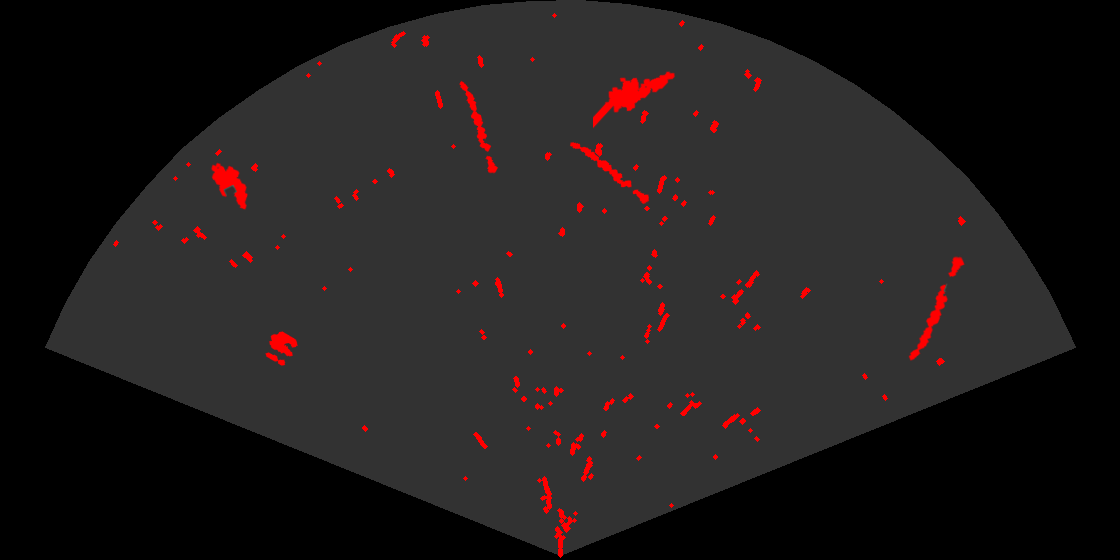AUV: (209, 161, 250, 211)
ball: (264, 330, 299, 367)
chain: (907, 254, 966, 362), (568, 141, 651, 206), (458, 79, 499, 176)
frogman: (593, 70, 677, 130)
